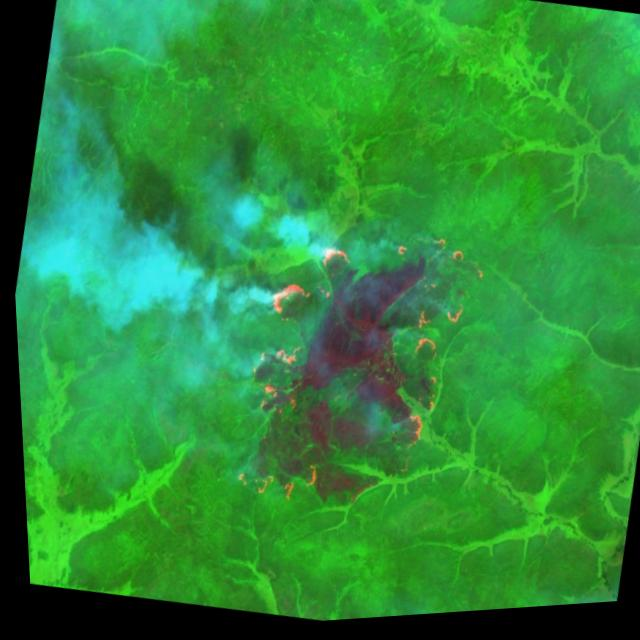fire: (203, 160, 507, 552)
